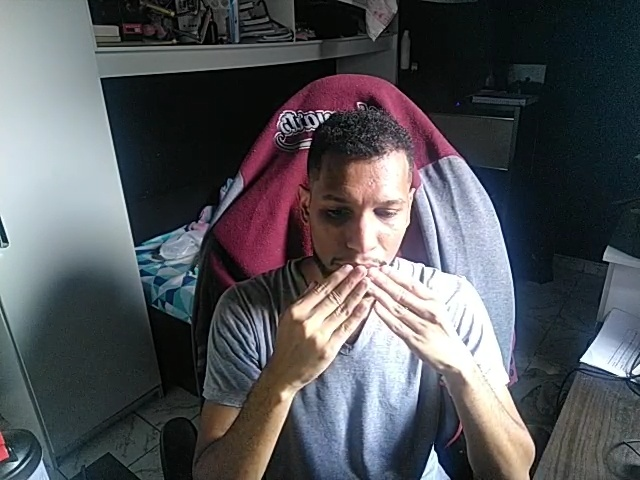obrigado: (255, 259, 466, 391)
